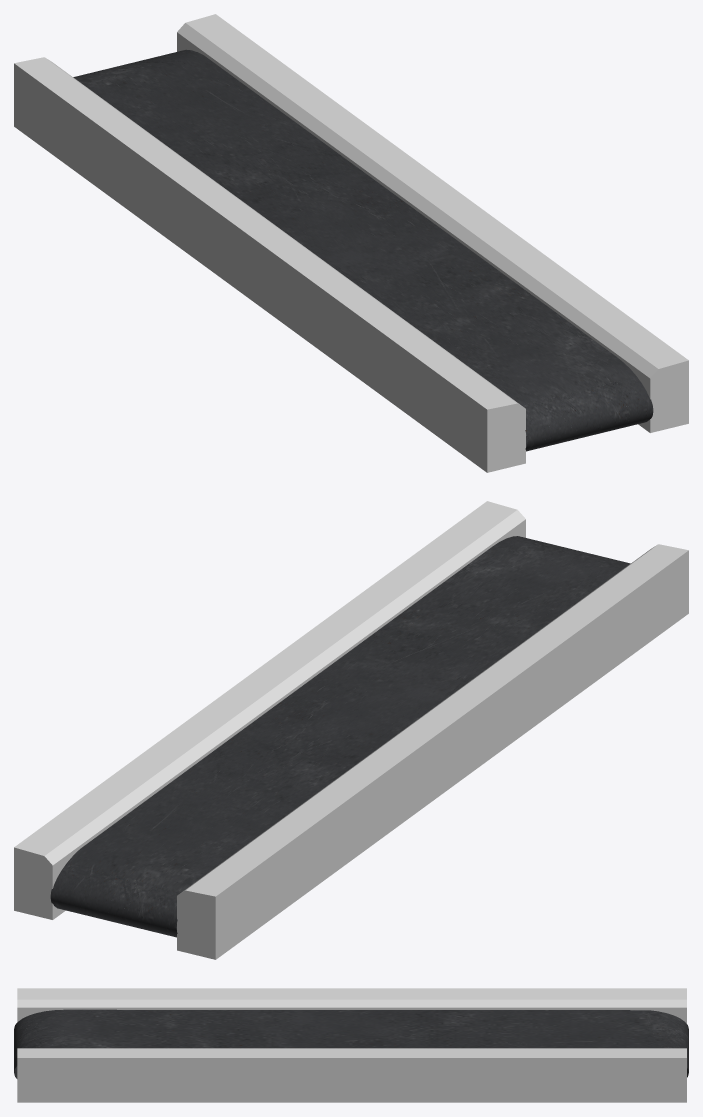
The model's file is belt.fbx.
The picture shows the model from 3 angles, top to bottom: view 1: azimuth 30°, elevation 25°; view 2: azimuth 150°, elevation 25°; view 3: azimuth 270°, elevation 25°; orthographic projection. The views are drawn at different scales.
Parts seen in each view (by area): view 1: Cube; view 2: Cube; view 3: Cube.
Boxes of the visible parts, x1,y1,x2,y2 form: Cube: [14, 14, 688, 472]; Cube: [14, 501, 688, 959]; Cube: [14, 988, 688, 1102].
Size of the model in its own units: 328 by 105 by 1343.
